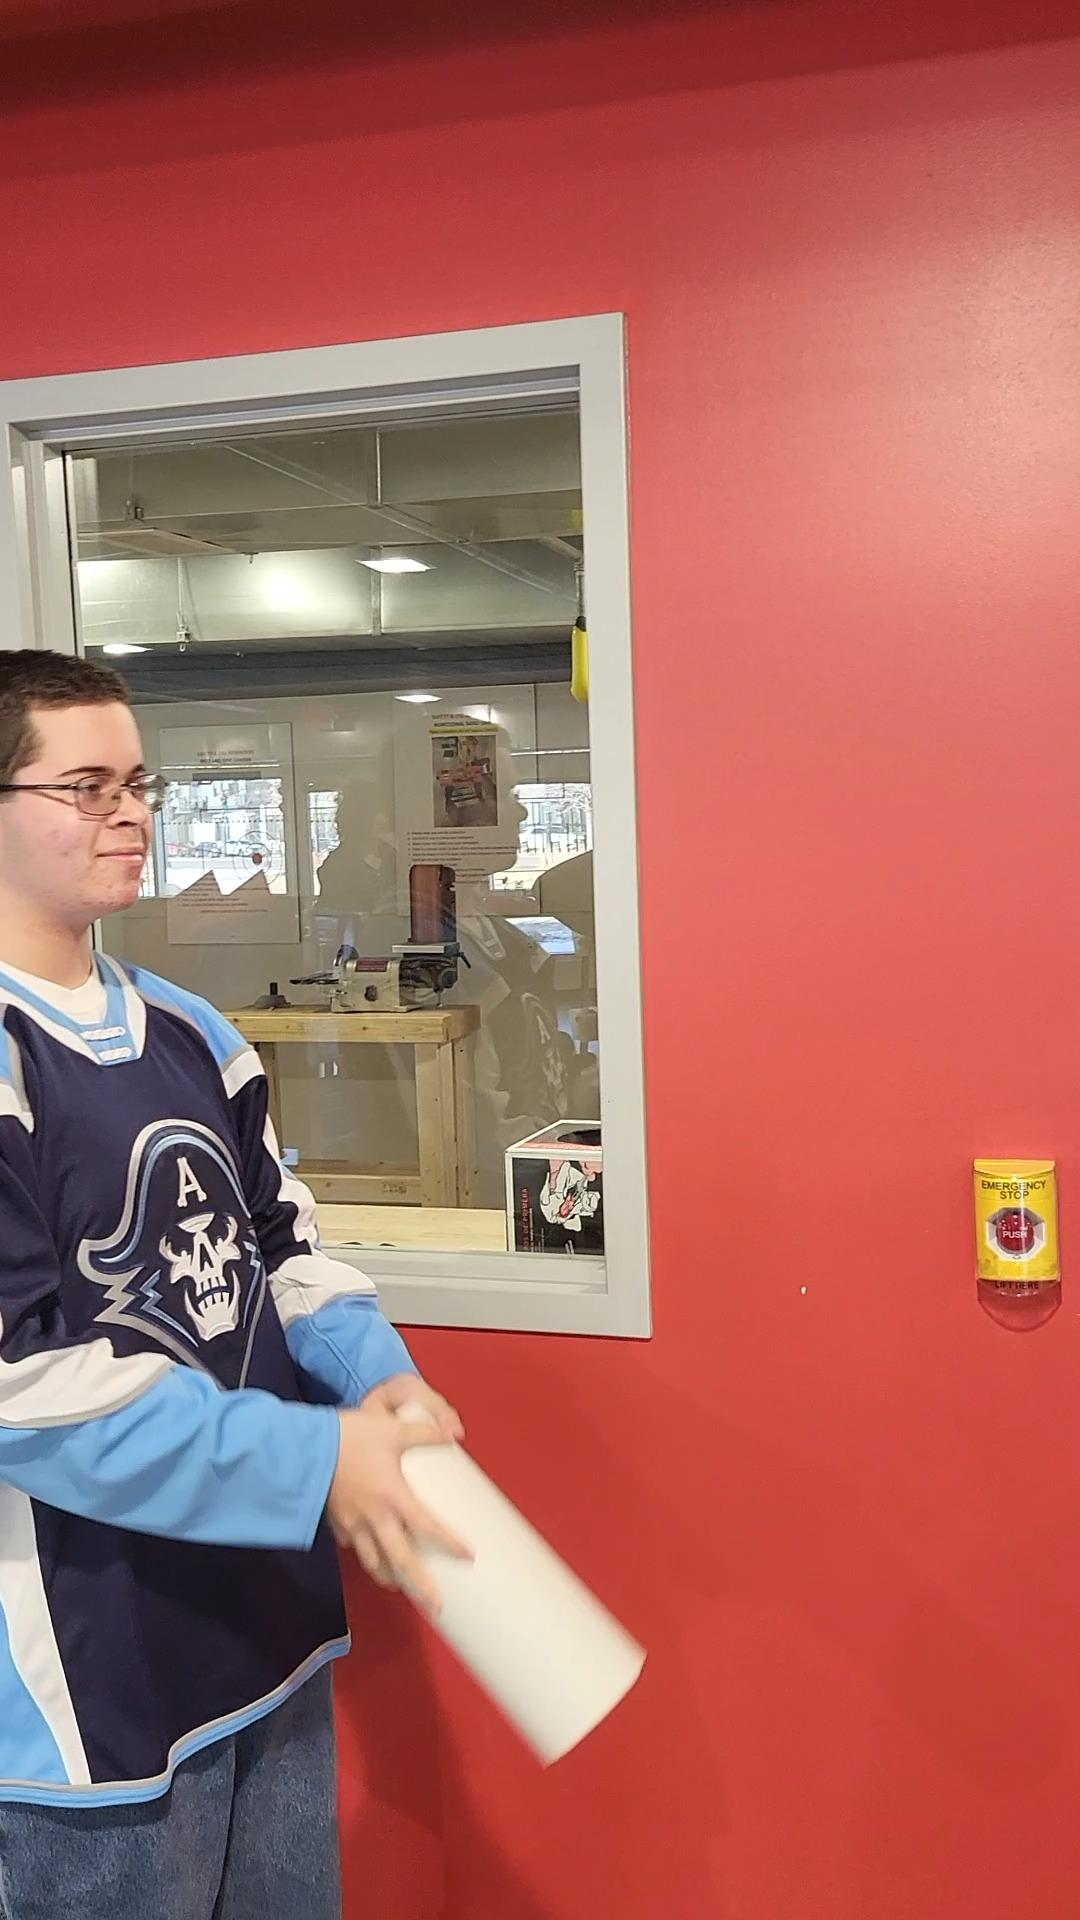coral: (334, 1381, 640, 1760)
